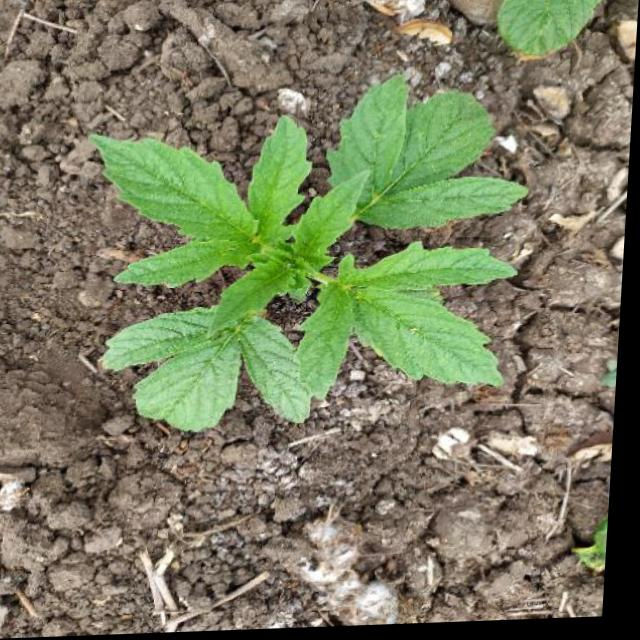crop: (68, 72, 538, 445)
